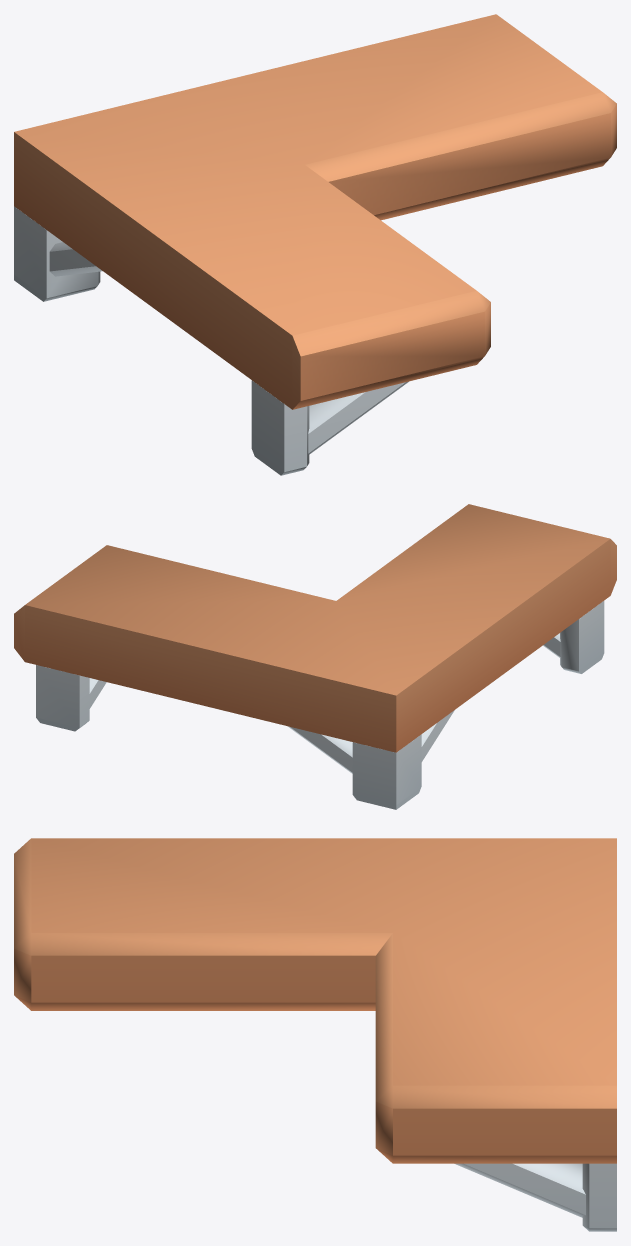
The model's file is Wall Shelf Kitchen-l0Or3HvwJR.glb.
The picture shows the model from 3 angles, top to bottom: view 1: azimuth 30°, elevation 25°; view 2: azimuth 150°, elevation 25°; view 3: azimuth 270°, elevation 25°; orthographic projection. The views are drawn at different scales.
Parts seen in each view (by area): view 1: wall_shelf_kitchen_corner; view 2: wall_shelf_kitchen_corner; view 3: wall_shelf_kitchen_corner.
Part boxes in pixels (<box>): wall_shelf_kitchen_corner: <box>14,14,616,475</box>; wall_shelf_kitchen_corner: <box>14,504,616,809</box>; wall_shelf_kitchen_corner: <box>14,838,616,1231</box>.
Size of the model in its own units: 1.75 by 0.5 by 1.75.
Materials: 1 (1 with a texture image).
